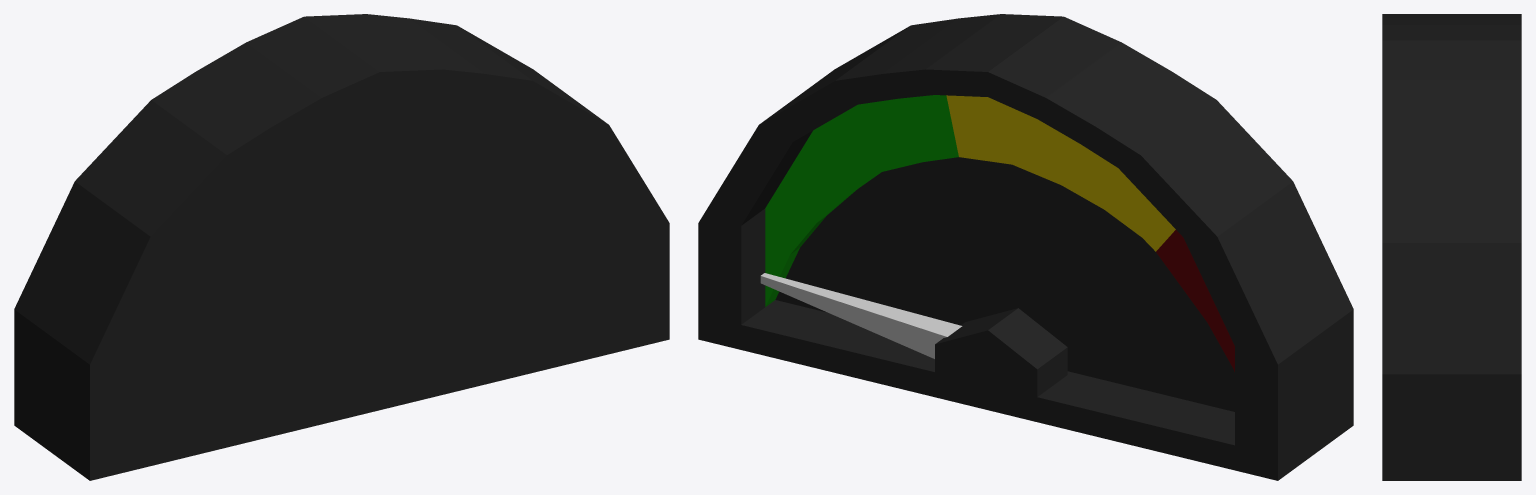
Rendered from Meter.fbx.
3 views of the same model, side by side, from view 1: azimuth 30°, elevation 25°; view 2: azimuth 150°, elevation 25°; view 3: azimuth 270°, elevation 25° (orthographic). The views are drawn at different scales.
Parts seen in each view (by area): view 1: Meter; view 2: Meter, Pointer; view 3: Meter.
Boxes of the visible parts, box(x1,y1,x2,y2) form: Meter: box(14, 14, 669, 480); Meter: box(698, 14, 1353, 480); Pointer: box(760, 273, 962, 358); Meter: box(1382, 14, 1521, 480).
Size of the model in its own units: 43.73 by 24.38 by 9.9.
